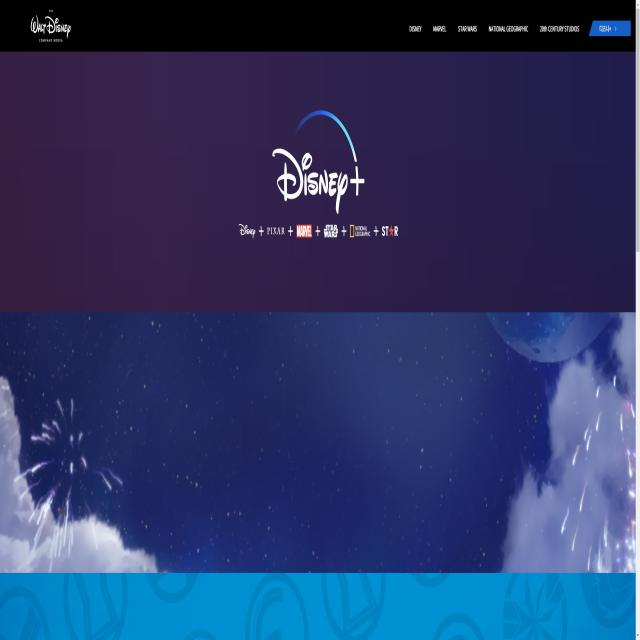tab-bar: (405, 14, 633, 42)
